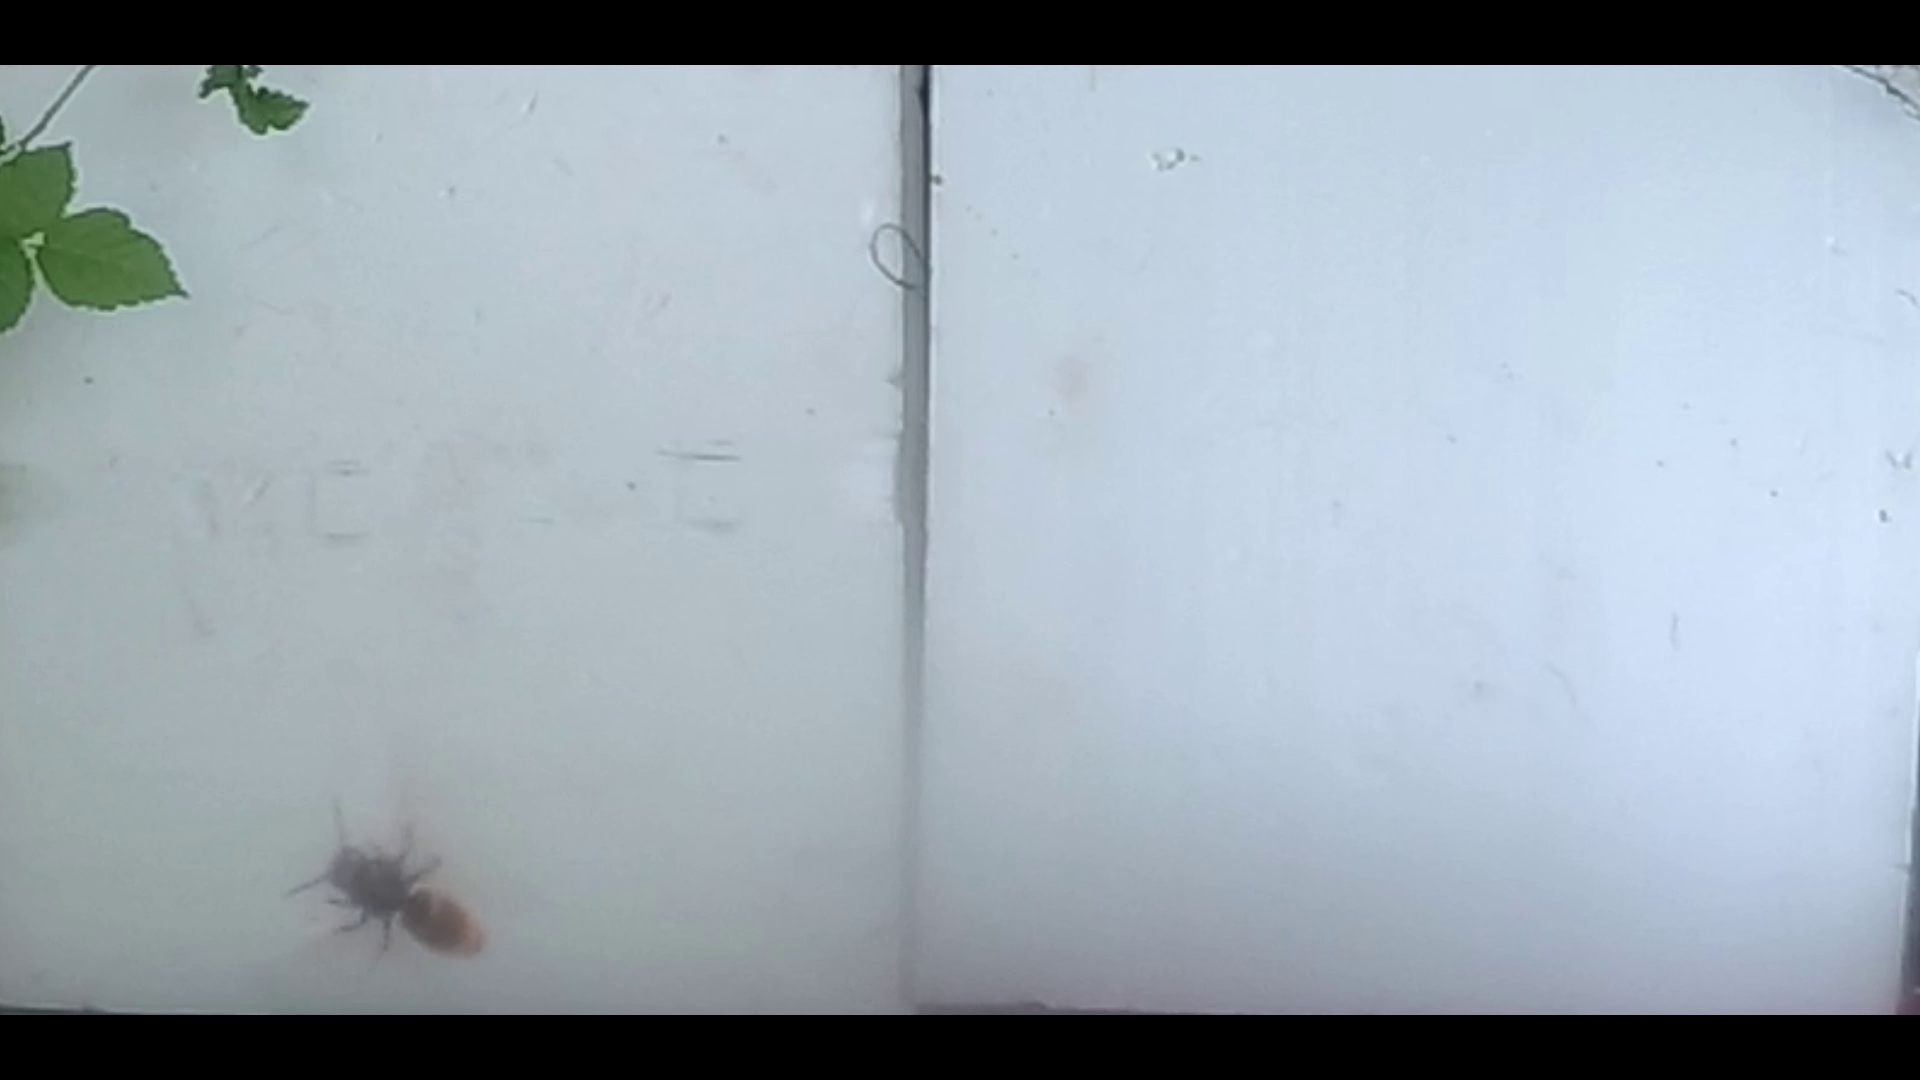Asian_hornets: (272, 799, 497, 981)
